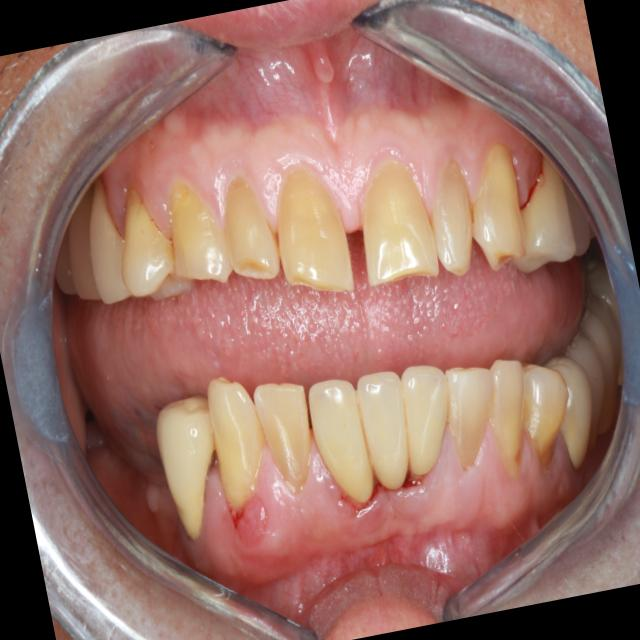tooth: (142, 382, 244, 549), (337, 143, 449, 295), (259, 150, 361, 310), (488, 125, 583, 278), (450, 129, 540, 282), (196, 363, 282, 522), (557, 297, 636, 456), (300, 368, 382, 516), (155, 166, 243, 301), (384, 349, 468, 488), (469, 341, 548, 486), (247, 363, 329, 500), (102, 175, 186, 307), (431, 349, 513, 480), (351, 359, 425, 503), (413, 143, 489, 283), (509, 347, 586, 481), (68, 174, 142, 313), (578, 246, 640, 410), (212, 163, 286, 294), (539, 343, 610, 477), (49, 177, 119, 309), (39, 208, 87, 302), (556, 168, 602, 265)
